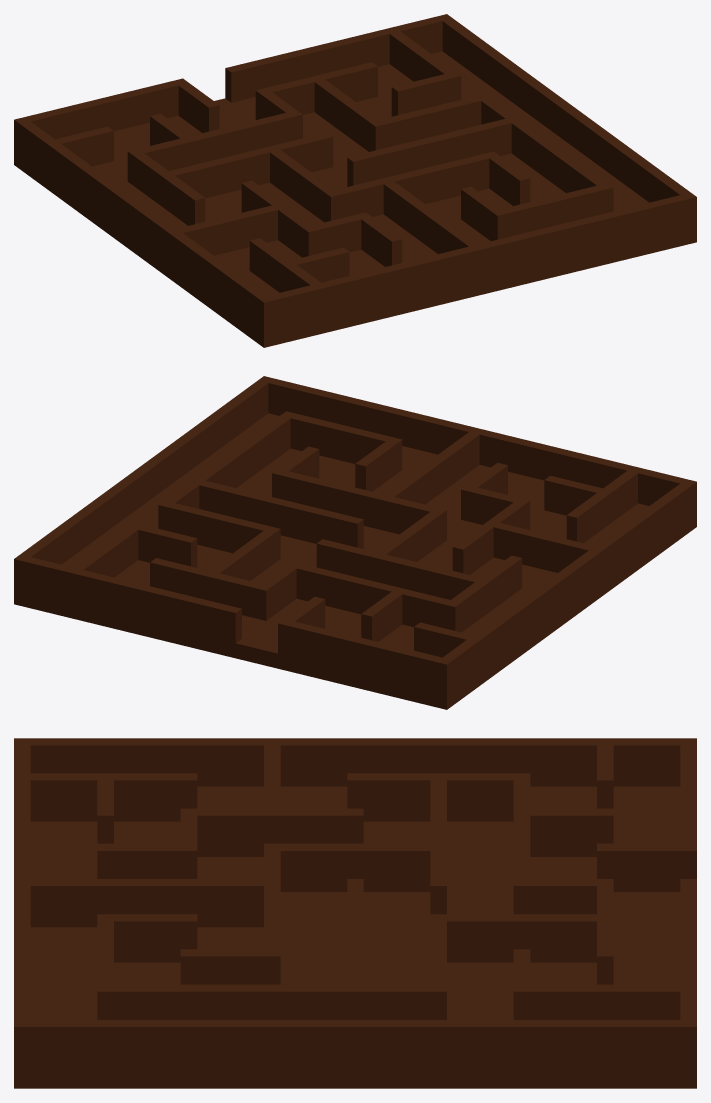
File: Labyrinth4.obj
3 views of the same model, one above another, from view 1: azimuth 30°, elevation 25°; view 2: azimuth 150°, elevation 25°; view 3: azimuth 270°, elevation 25° (orthographic). The views are drawn at different scales.
Parts seen in each view (by area): view 1: aLabyrinth; view 2: aLabyrinth; view 3: aLabyrinth.
Boxes of the visible parts, <box> form: aLabyrinth: <box>14,14,696,347</box>; aLabyrinth: <box>14,376,696,709</box>; aLabyrinth: <box>14,738,696,1088</box>.
Bounding box in the file's own units: 30 × 3 × 30.
